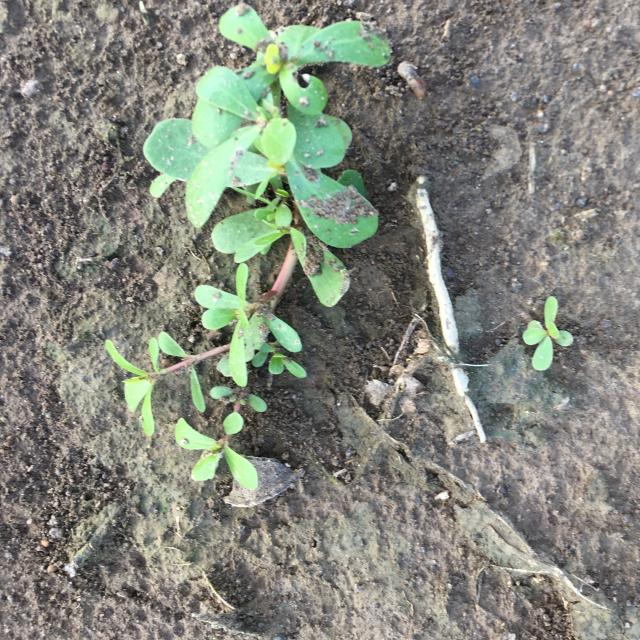Purslane: (105, 6, 391, 490), (522, 296, 574, 370)
